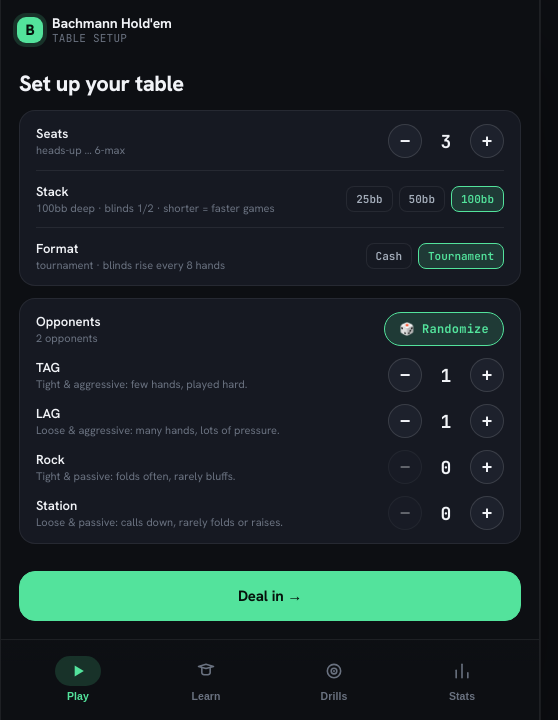
SetupScreen › increments / decrements the seat count via the stepper
Check: the text with test id "seat-count" reads "3", box [441, 130, 451, 152]
Step 1. Click the button named "More seats" → (487, 141), box [470, 124, 504, 158]
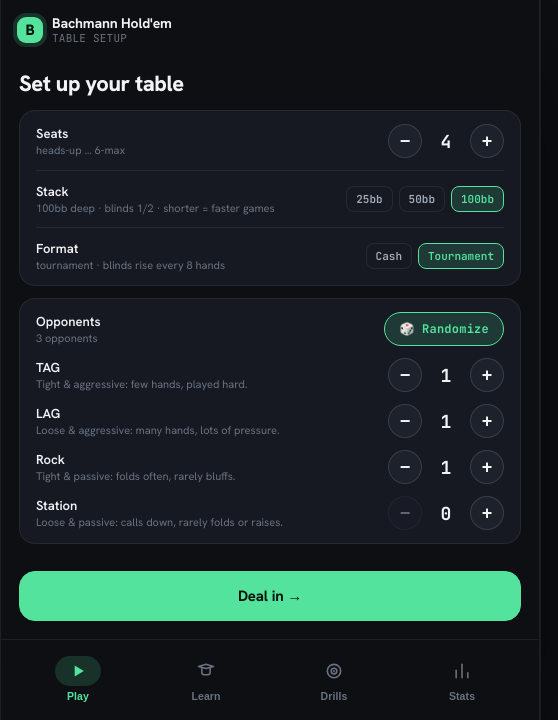
Check: the text with test id "seat-count" reads "4", box [441, 130, 451, 152]
Step 2. Click the button named "Fewer seats" → (405, 141), box [388, 124, 422, 158]
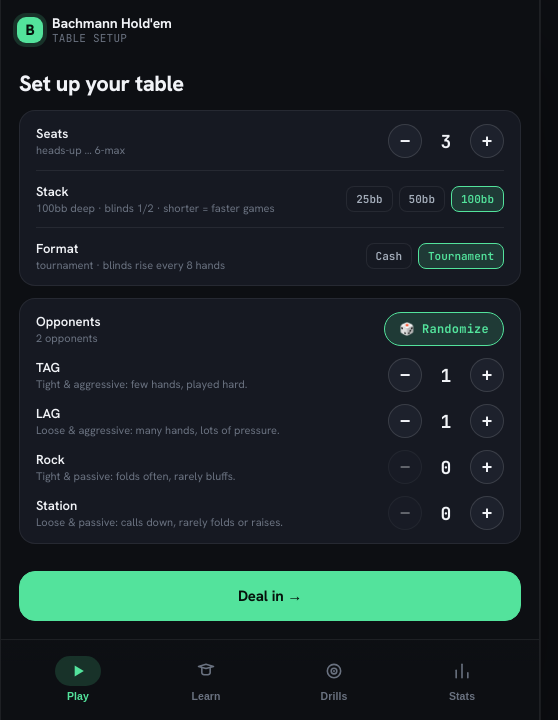
Check: the text with test id "seat-count" reads "3", box [441, 130, 451, 152]
